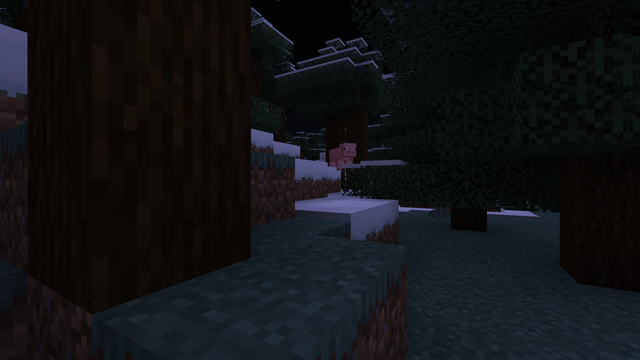cochons: (325, 146, 354, 170)
